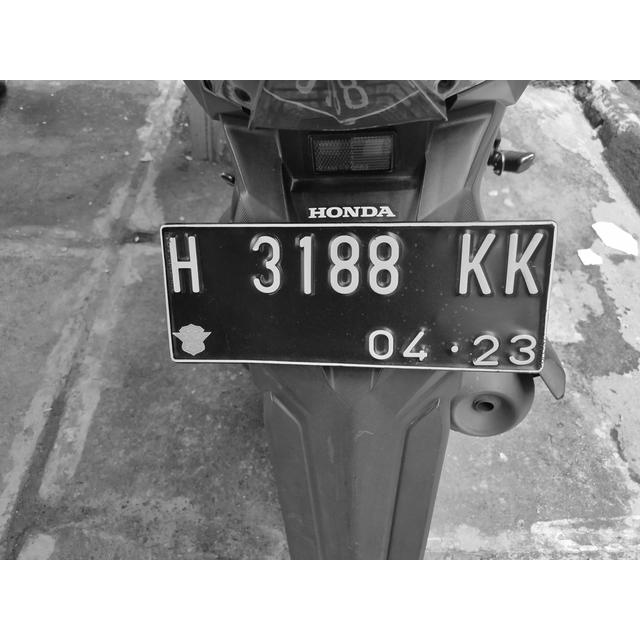license: (167, 227, 547, 372)
